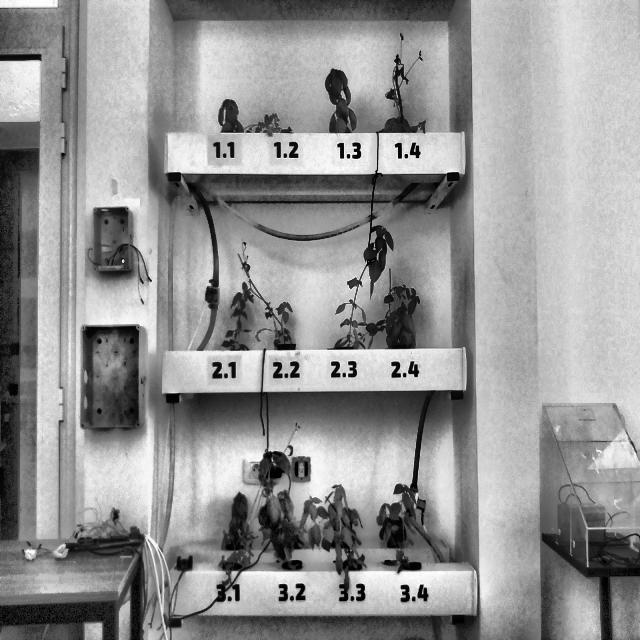plants: (215, 418, 307, 572), (328, 226, 392, 349), (242, 229, 301, 350), (255, 449, 306, 570), (370, 477, 430, 573), (370, 31, 424, 133), (315, 491, 369, 576), (316, 68, 362, 132), (255, 494, 303, 551), (219, 488, 254, 550), (221, 285, 254, 350), (380, 496, 408, 554), (384, 310, 418, 348), (254, 109, 300, 135), (217, 96, 246, 134), (387, 286, 420, 312)
